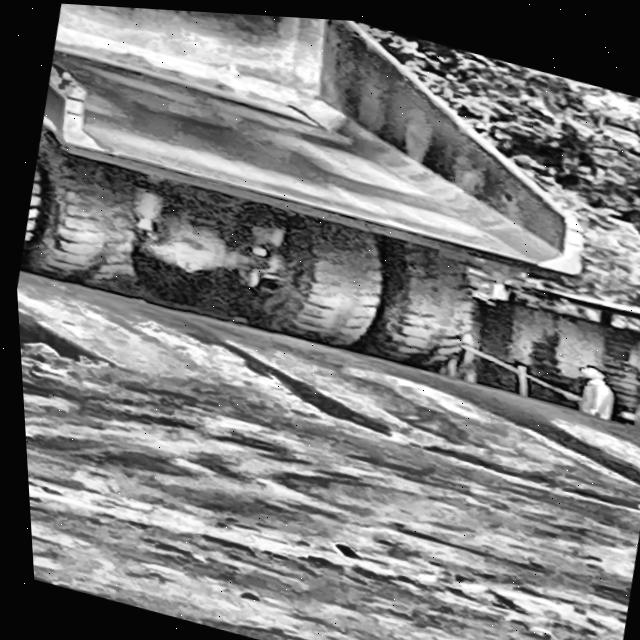dump_truck: (5, 0, 603, 400)
